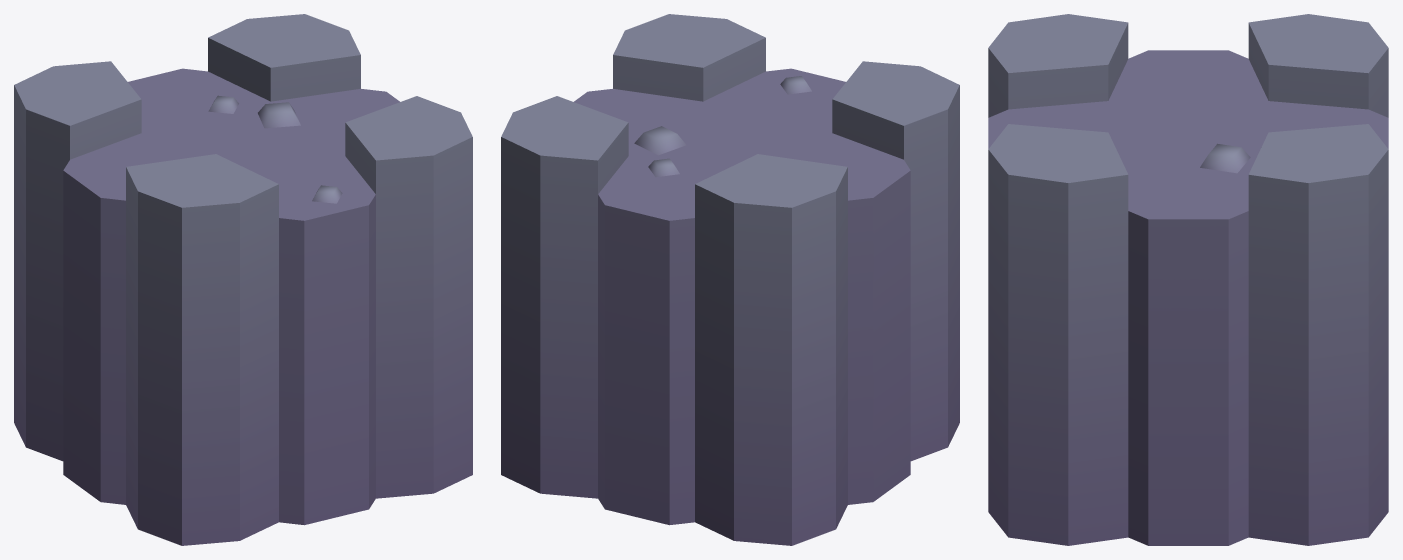
The model's file is rocks-high.obj.
The picture shows the model from 3 angles, left to right: view 1: azimuth 30°, elevation 25°; view 2: azimuth 150°, elevation 25°; view 3: azimuth 270°, elevation 25°; orthographic projection. The views are drawn at different scales.
Visible parts, largest first — view 1: rocks-high; view 2: rocks-high; view 3: rocks-high.
Part boxes in pixels (x1,y1,x2,y2): rocks-high: (14,14,472,545); rocks-high: (501,14,959,545); rocks-high: (988,14,1388,545).
Size of the model in its own units: 1 by 1 by 1.
Materials: 1 (1 with a texture image).
